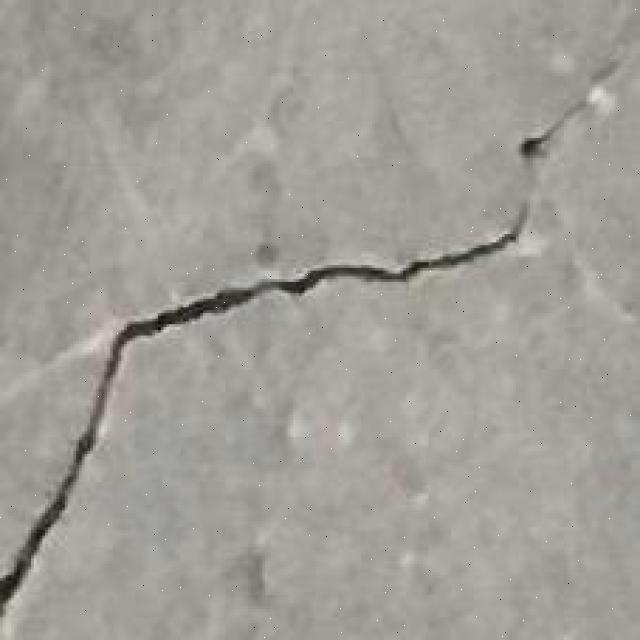crack: (0, 29, 639, 638)
